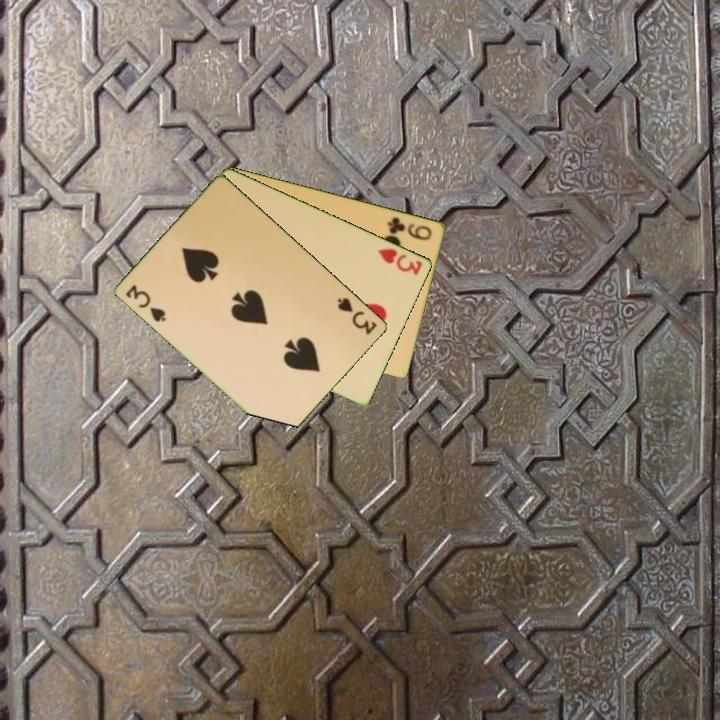3h: (375, 244, 426, 278)
3s: (334, 293, 380, 338), (122, 281, 169, 325)
9c: (384, 213, 435, 243)
